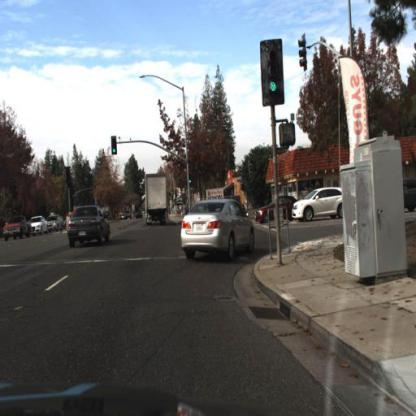car: (176, 192, 262, 276), (181, 196, 257, 264), (61, 195, 114, 255), (290, 185, 348, 224), (258, 196, 301, 225), (4, 210, 33, 247), (400, 171, 416, 225), (26, 210, 49, 241), (45, 208, 65, 239), (134, 203, 148, 222), (122, 204, 134, 221)
trafficLight-Green: (263, 70, 287, 104), (106, 141, 119, 163), (186, 169, 194, 192), (188, 172, 193, 188)
truck: (138, 169, 172, 233)
